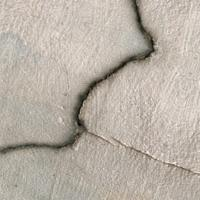crack: (2, 3, 151, 174)
